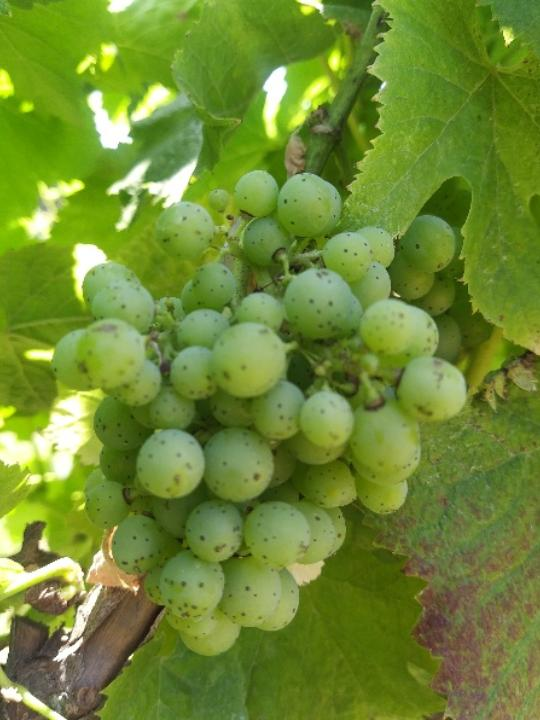grape: (44, 168, 469, 657)
